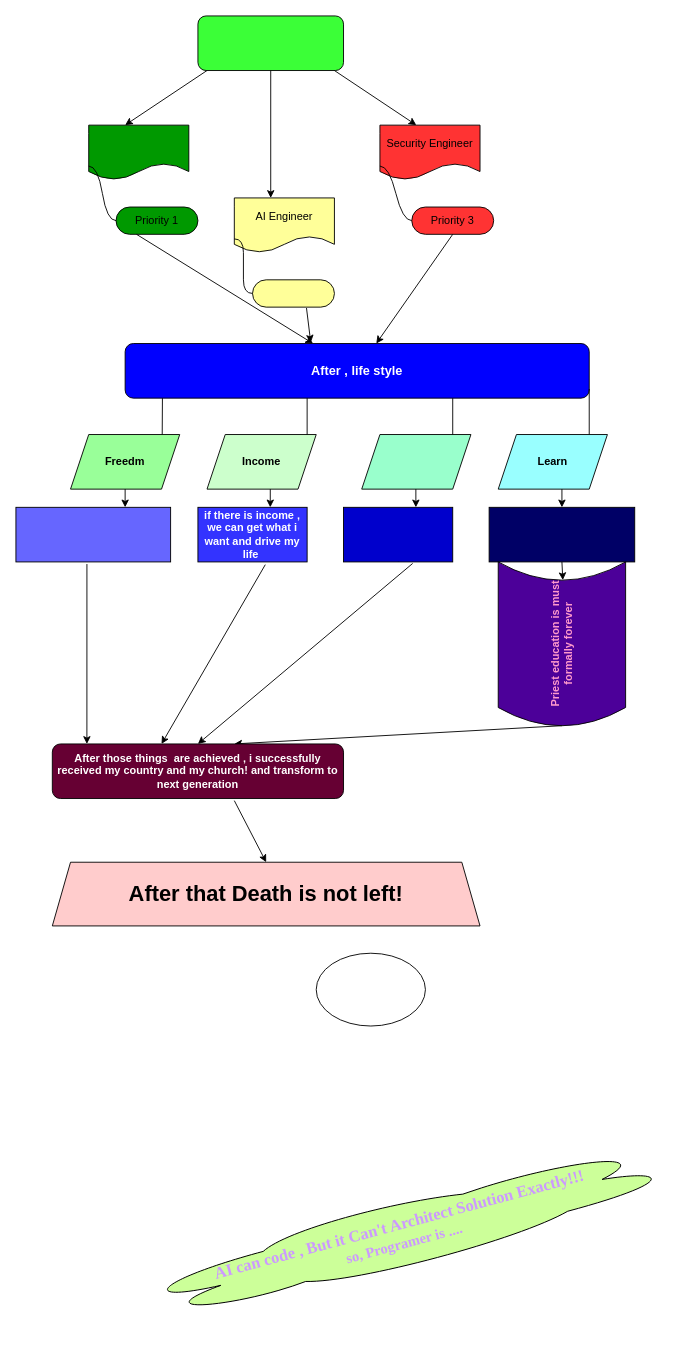
The diagram is 695 pixels wide and 1357 high, and some of its shapes have lost their labels. The shapes that lost their labels are listed below. From the top down, each one's centre as x and y in pixels, then its label:
At [270,43]: "3 Future Dream Must Achieve!".
At [138,152]: "Software Engineer".
At [293,293]: "Priority 2".
At [416,461]: "Voluntary".
At [93,534]: "If there is freedom, i can navigate different problem and strive to solution".
At [398,534]: "volutary is must if i have things that other's haven't".
At [561,534]: "i alway's want to learn from life , because life teach me by examine me!".
